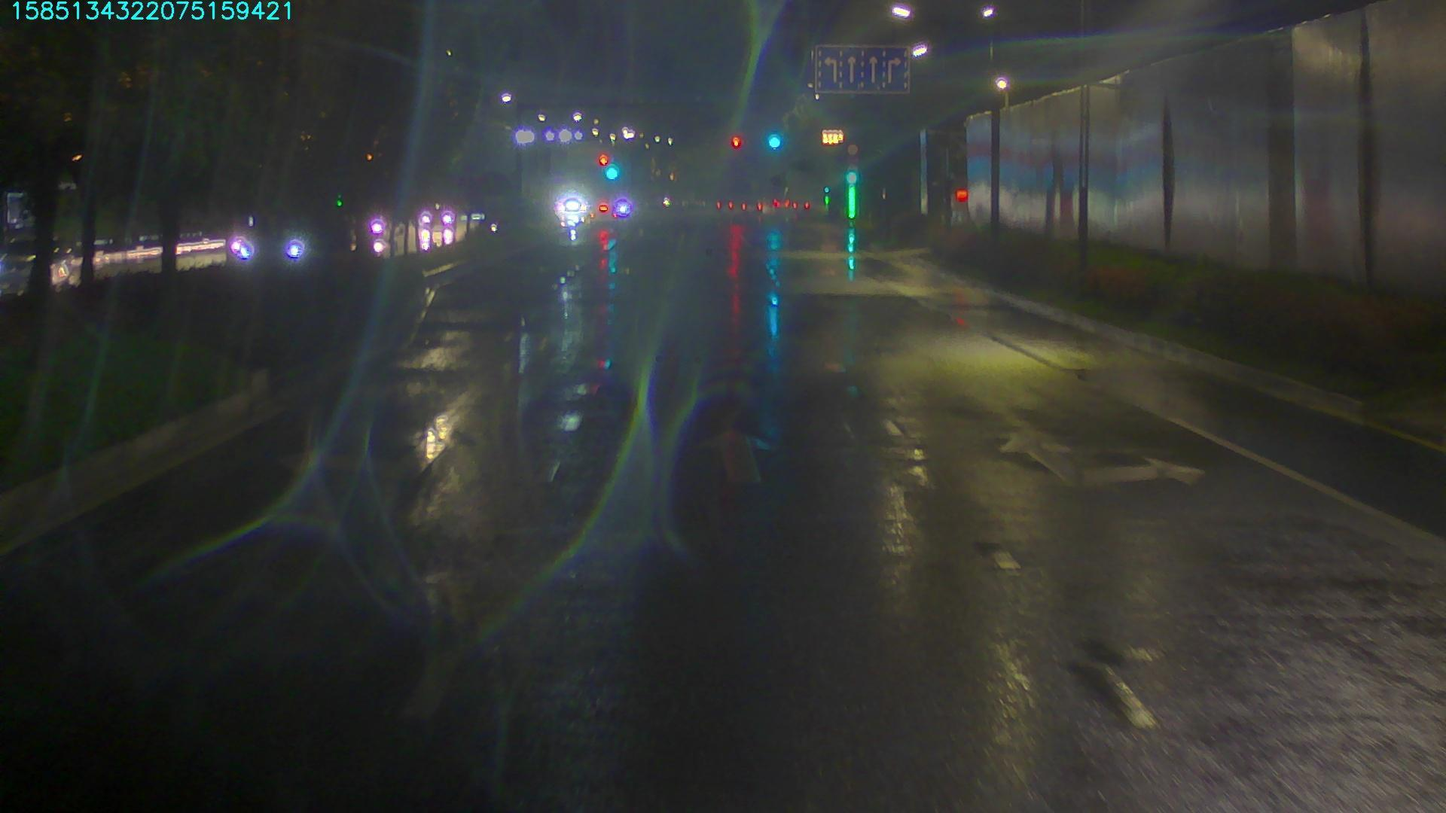green: (764, 127, 780, 149)
red: (727, 129, 744, 147)
